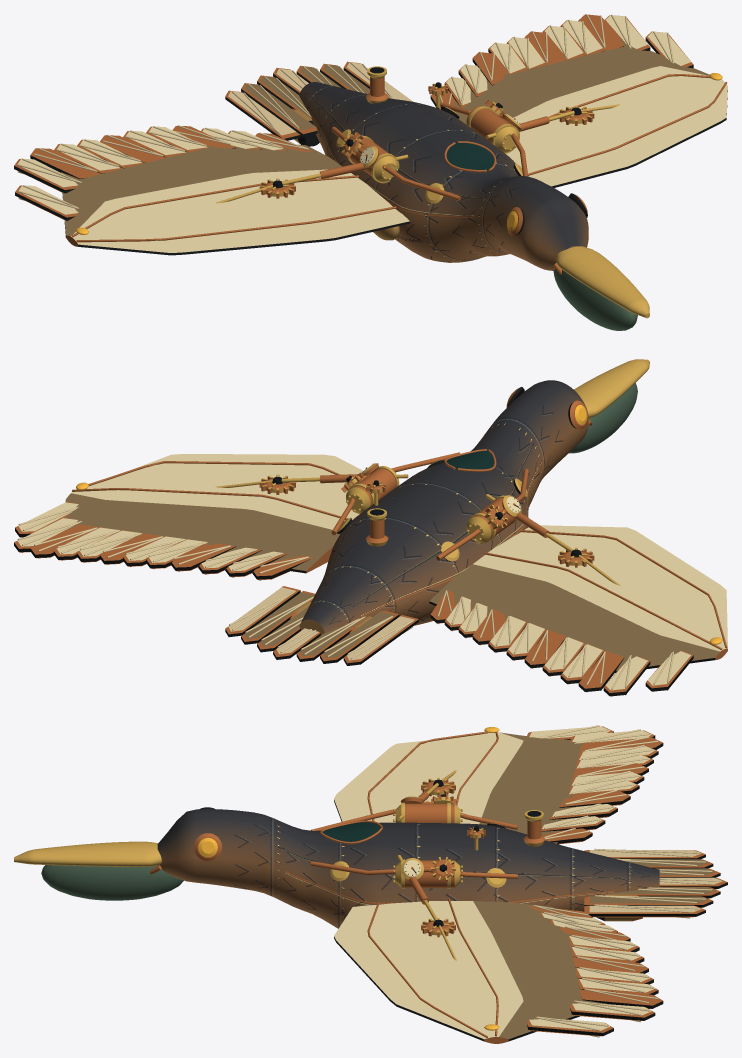
The picture shows the model from 3 angles, top to bottom: view 1: azimuth 30°, elevation 25°; view 2: azimuth 150°, elevation 25°; view 3: azimuth 270°, elevation 25°; orthographic projection. The views are drawn at different scales.
Visible parts, largest first — view 1: pelican_hull; view 2: pelican_hull; view 3: pelican_hull.
Part boxes in pixels (x1=…): pelican_hull: x1=14, y1=14, x2=727, y2=330; pelican_hull: x1=14, y1=359, x2=727, y2=696; pelican_hull: x1=14, y1=725, x2=727, y2=1043.
Size of the model in its own units: 86 by 16.31 by 84.67.
1 material, 1 textured.
